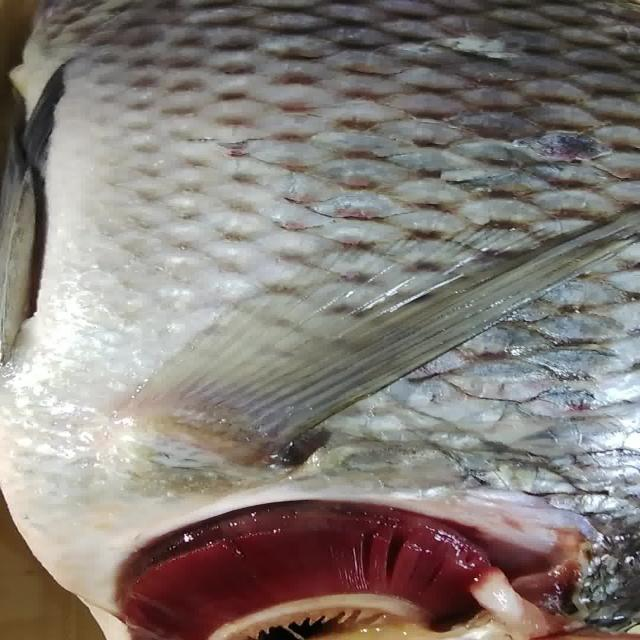Fresh: (89, 496, 528, 626)
